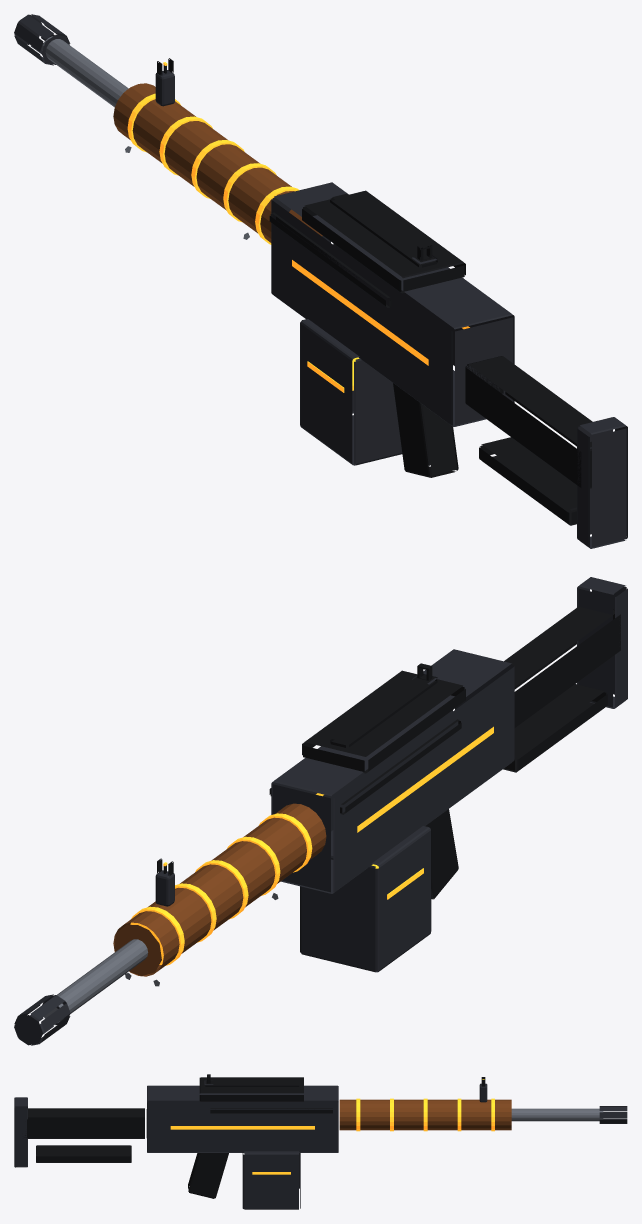
File: lmg_lod.glb
The picture shows the model from 3 angles, top to bottom: view 1: azimuth 30°, elevation 25°; view 2: azimuth 150°, elevation 25°; view 3: azimuth 270°, elevation 25°; orthographic projection. The views are drawn at different scales.
Parts seen in each view (by area): view 1: Body, Magazine, IronSights; view 2: Body, Magazine, IronSights; view 3: Body, Magazine, IronSights.
Boxes of the visible parts, x1=… form: Body: x1=14, y1=14, x2=627, y2=548; Magazine: x1=300, y1=319, x2=402, y2=465; IronSights: x1=155, y1=58, x2=437, y2=264; Body: x1=14, y1=577, x2=627, y2=1045; Magazine: x1=300, y1=826, x2=431, y2=972; IronSights: x1=155, y1=663, x2=437, y2=906; Body: x1=14, y1=1077, x2=627, y2=1198; Magazine: x1=242, y1=1151, x2=300, y2=1209; IronSights: x1=204, y1=1074, x2=487, y2=1102.
Bounding box in the file's own units: 0.102 × 0.285 × 1.27.
